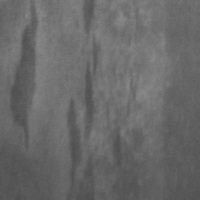inclusion: (64, 35, 102, 199), (8, 0, 41, 153), (107, 113, 129, 171), (78, 0, 98, 45)
